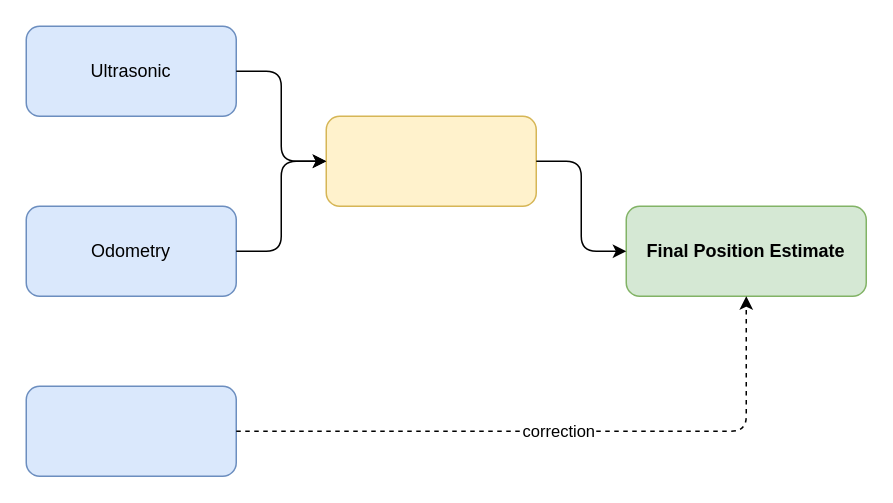
The diagram is 893 pixels wide and 503 high, and some of its shapes have lost their labels. Here are the shapes that lost their labels. From the top down, the box of each, then its label:
(325, 115, 536, 206): Trust System
(25, 385, 236, 476): Gyro
